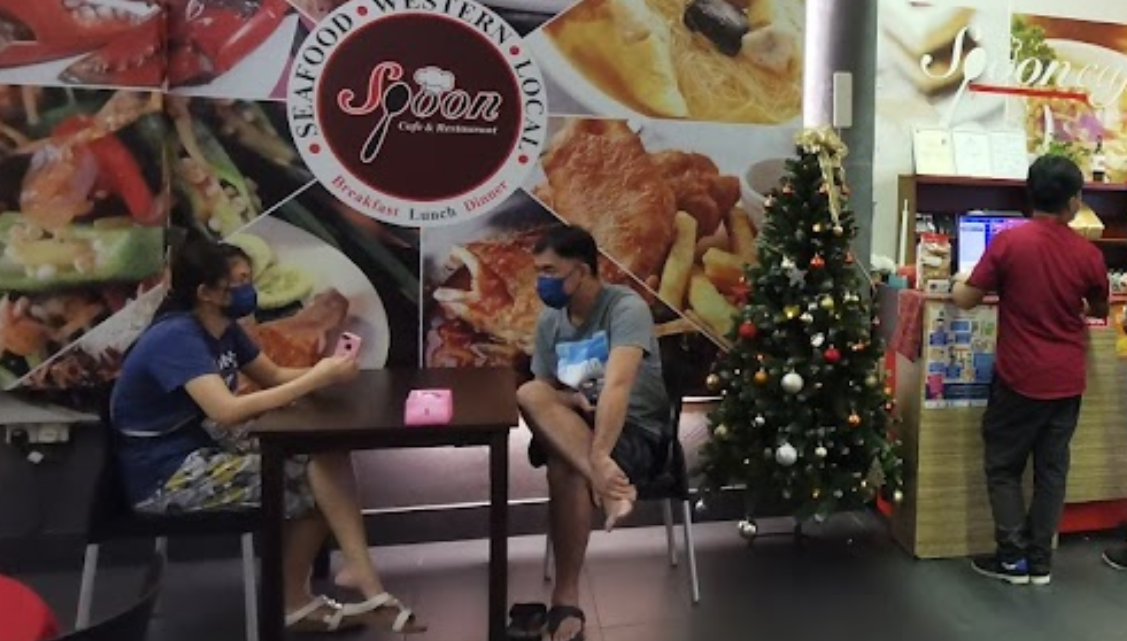sit: (109, 199, 386, 625), (472, 205, 719, 641)
stand: (947, 130, 1127, 630)
